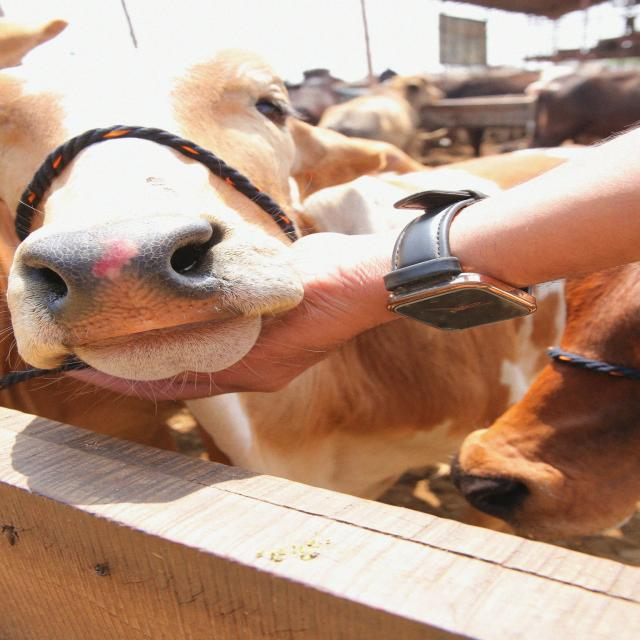muzzles: (11, 215, 279, 348)
